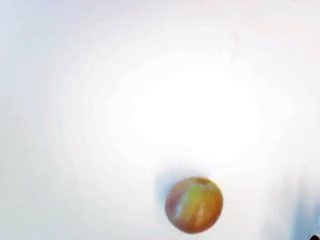apple: (164, 176, 222, 232)
